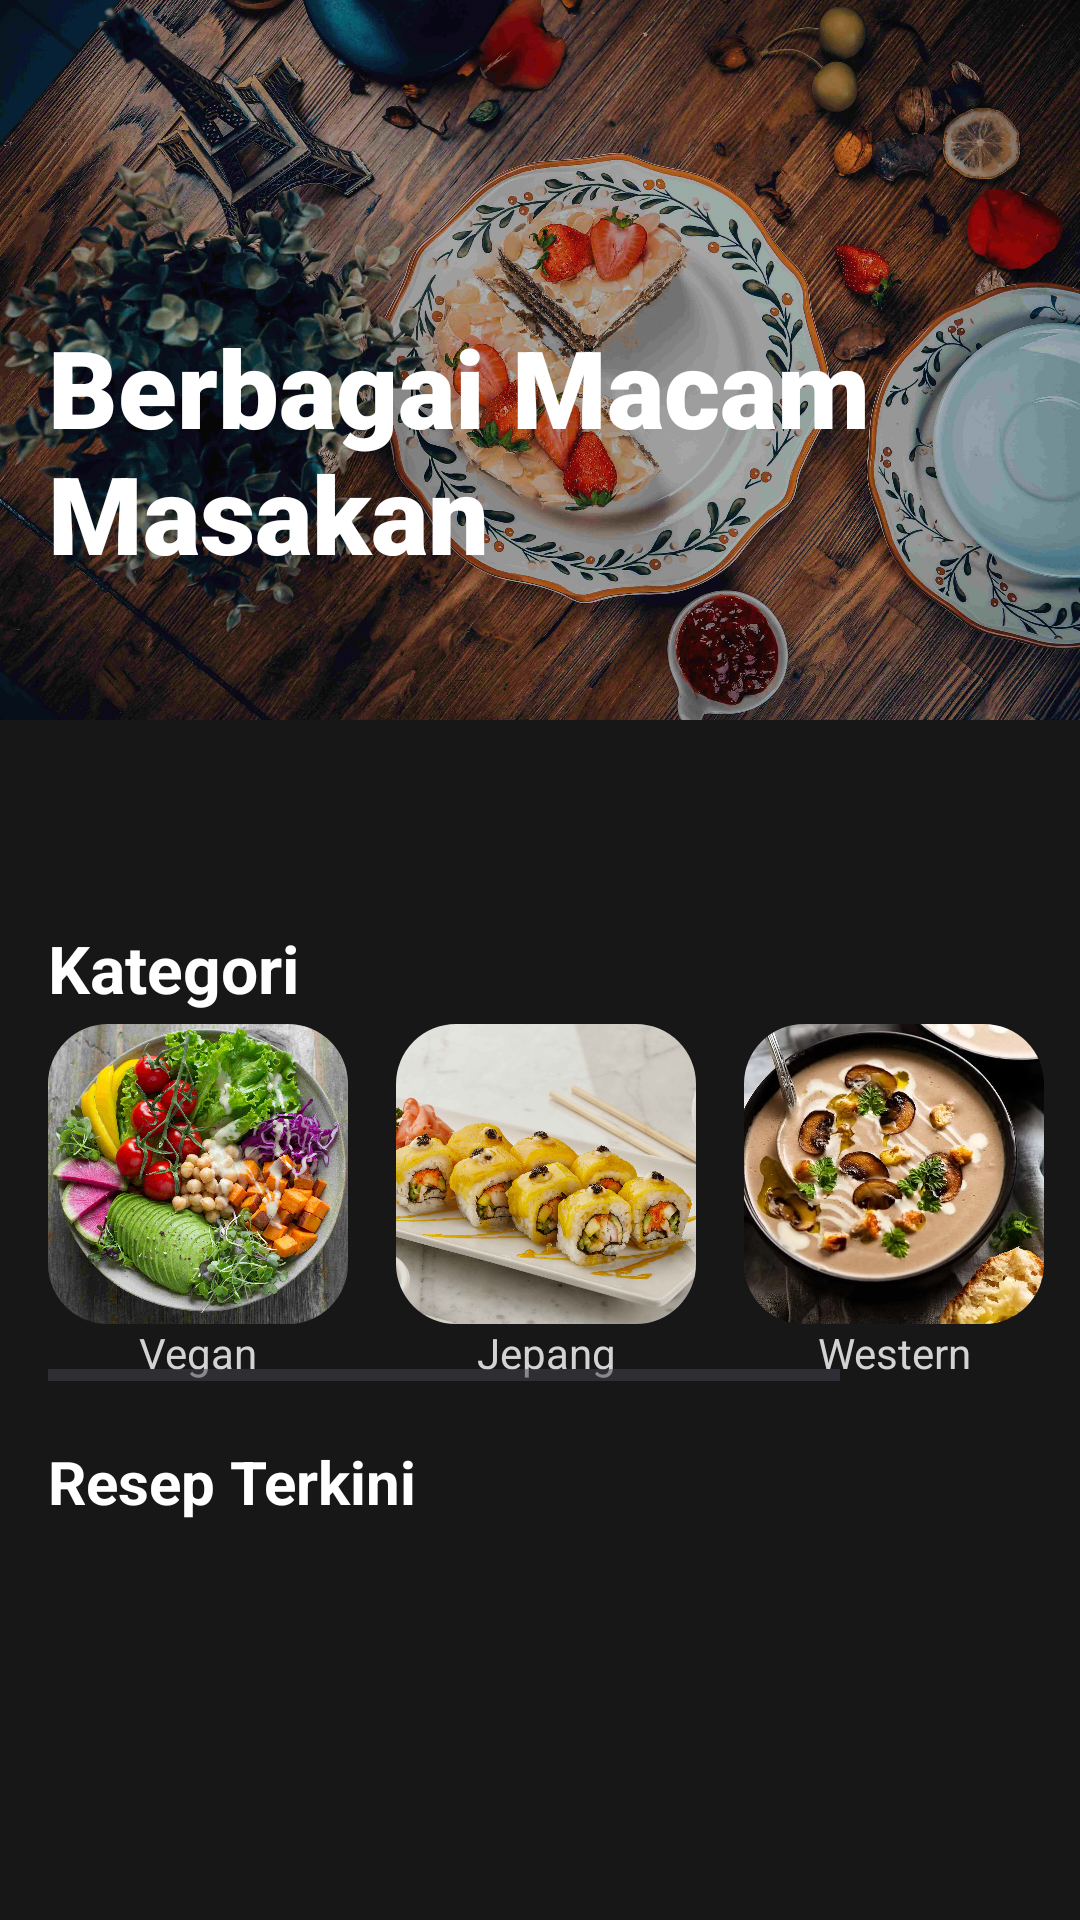

Screen size 1080 × 1920. Icon name, then its box in pixels as (x1, y1, x2, y2):
mushroom soup: (744, 1024, 1044, 1324)
sushi crop: (396, 1024, 696, 1324)
